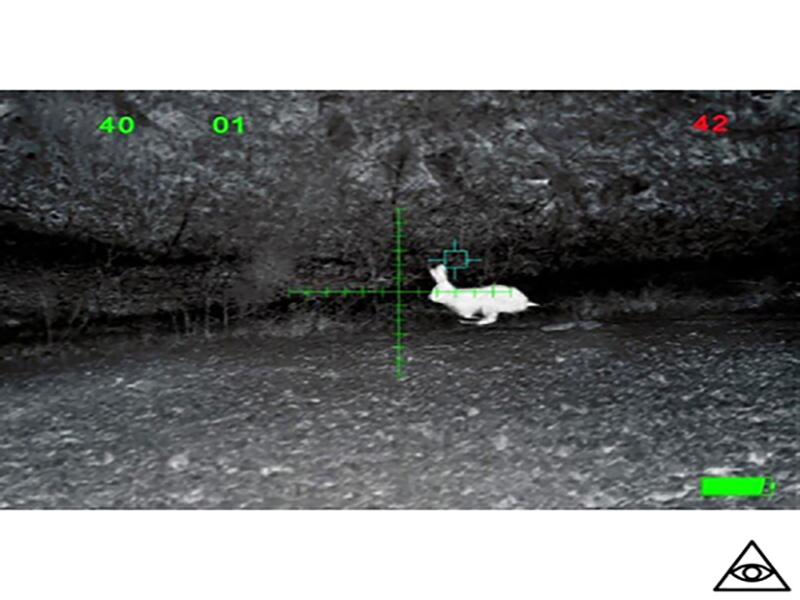cane da caccia: (424, 262, 545, 330)
